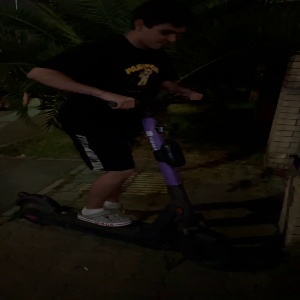human on a scooter: (10, 2, 239, 278)
